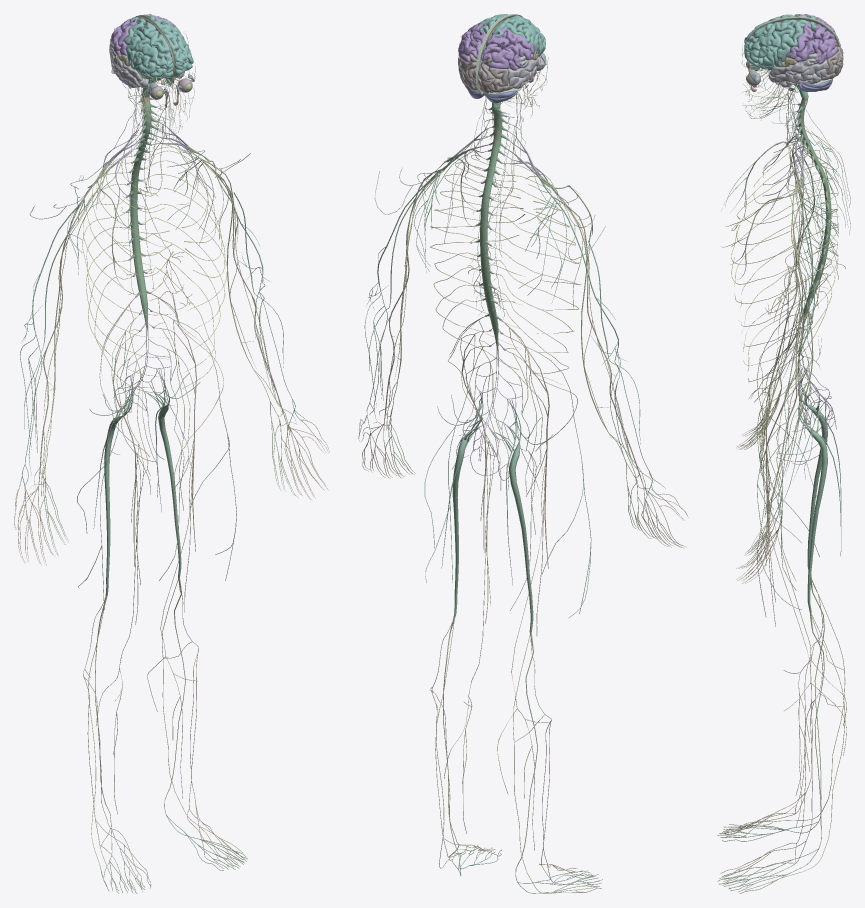
The model's file is nerves.glb.
3 views of the same model, side by side, from view 1: azimuth 30°, elevation 25°; view 2: azimuth 150°, elevation 25°; view 3: azimuth 270°, elevation 25° (orthographic). The views are drawn at different scales.
Visible parts, largest first — view 1: spinal_dura, intercostal_nerves__r, intercostal_nerves__l, sciatic_nerve__r, sciatic_nerve__l, middle_frontal_gyrus__r; view 2: spinal_dura, intercostal_nerves__l, intercostal_nerves__r, sciatic_nerve__r, sciatic_nerve__l; view 3: intercostal_nerves__l, spinal_dura, intercostal_nerves__r, sciatic_nerve__l, sciatic_nerve__r, middle_frontal_gyrus__l, saphenous_nerve__l, lateral_femoral_cutaneous_nerve__l, median_nerve__l, middle_temporal_gyrus__l, precentral_gyrus__l, saphenous_nerve__r (+17 smaller).
Part boxes in pixels (x1,y1,x2,y2): spinal_dura: [128, 95, 156, 334]; intercostal_nerves__r: [82, 148, 173, 392]; intercostal_nerves__l: [141, 143, 227, 389]; sciatic_nerve__r: [104, 376, 132, 595]; sciatic_nerve__l: [146, 369, 181, 577]; middle_frontal_gyrus__r: [133, 30, 166, 74]; spinal_dura: [477, 104, 507, 348]; intercostal_nerves__l: [430, 154, 525, 369]; intercostal_nerves__r: [492, 163, 581, 373]; sciatic_nerve__r: [495, 399, 533, 632]; sciatic_nerve__l: [452, 392, 481, 614]; intercostal_nerves__l: [731, 153, 838, 382]; spinal_dura: [797, 96, 831, 329]; intercostal_nerves__r: [731, 140, 838, 371]; sciatic_nerve__l: [798, 383, 827, 612]; sciatic_nerve__r: [798, 370, 827, 577]; middle_frontal_gyrus__l: [745, 29, 795, 62]; saphenous_nerve__l: [763, 452, 846, 827]; lateral_femoral_cutaneous_nerve__l: [756, 340, 819, 617]; median_nerve__l: [770, 198, 803, 508]; middle_temporal_gyrus__l: [774, 59, 828, 82]; precentral_gyrus__l: [777, 21, 805, 62]; saphenous_nerve__r: [763, 423, 846, 795].
Bounding box in the file's own units: 0.6675 × 1.69 × 0.2424.
